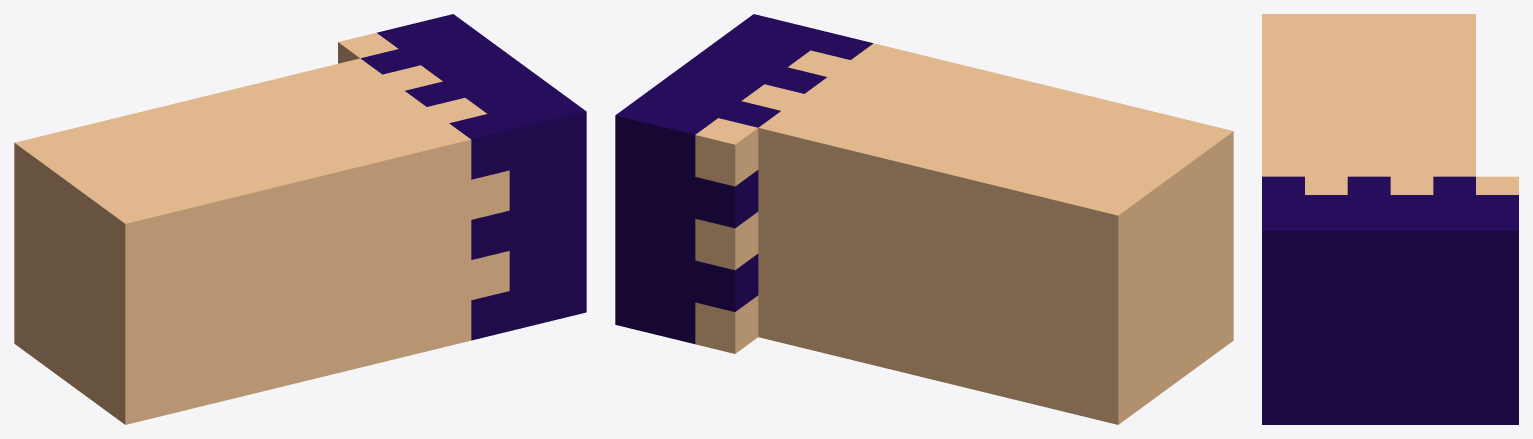
The model's file is Right_Arm_Graves.obj.
The picture shows the model from 3 angles, left to right: view 1: azimuth 30°, elevation 25°; view 2: azimuth 150°, elevation 25°; view 3: azimuth 270°, elevation 25°; orthographic projection. The views are drawn at different scales.
Bounding box in the file's own units: 1.2 × 0.5 × 0.6.
1 material, 1 textured.
